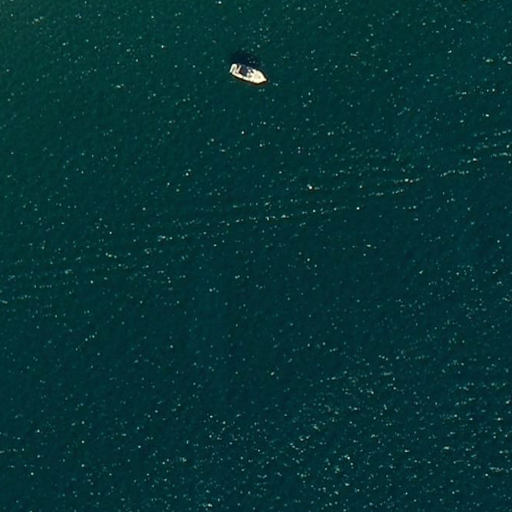ship: (226, 59, 268, 85)
